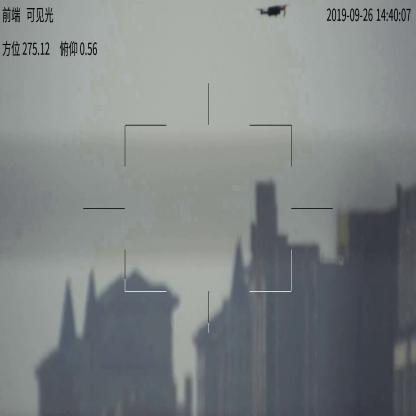uav: (256, 3, 292, 21)
